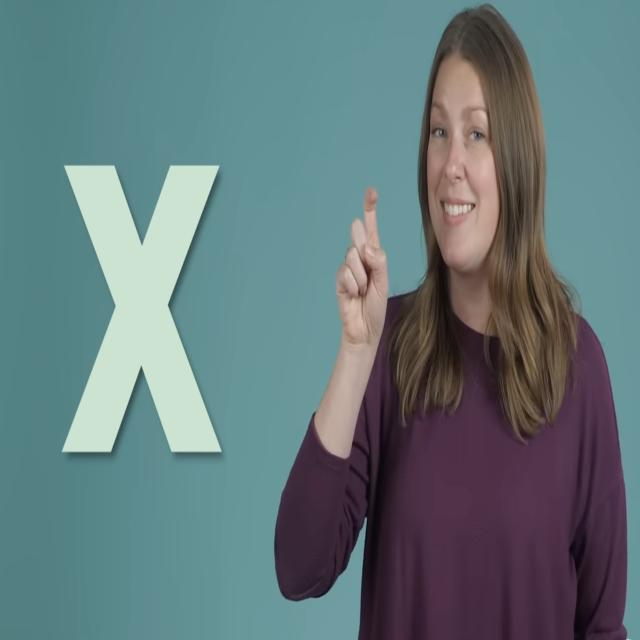X: (320, 173, 400, 359)
